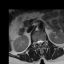CCS_normal: (39, 38, 41, 47)
LFS_normal: (42, 38, 44, 44)
LLS_normal: (41, 38, 42, 46)
RFS_normal: (35, 39, 37, 46)
RLS_normal: (37, 39, 39, 46)
